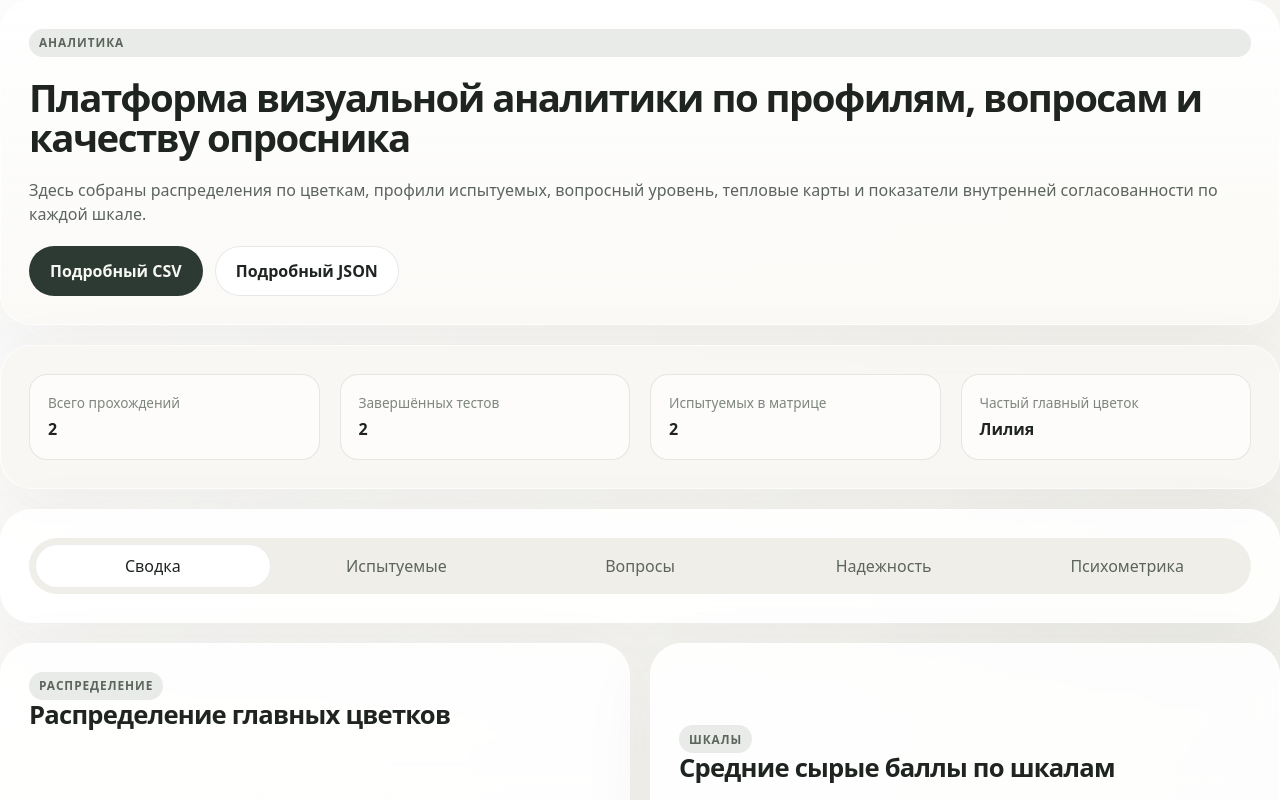
AdminAnalyticsDashboard › renders item-level tables and question charts
Click the button "Вопросы" at (640, 566), box [522,544,758,588]
(page scrolled)
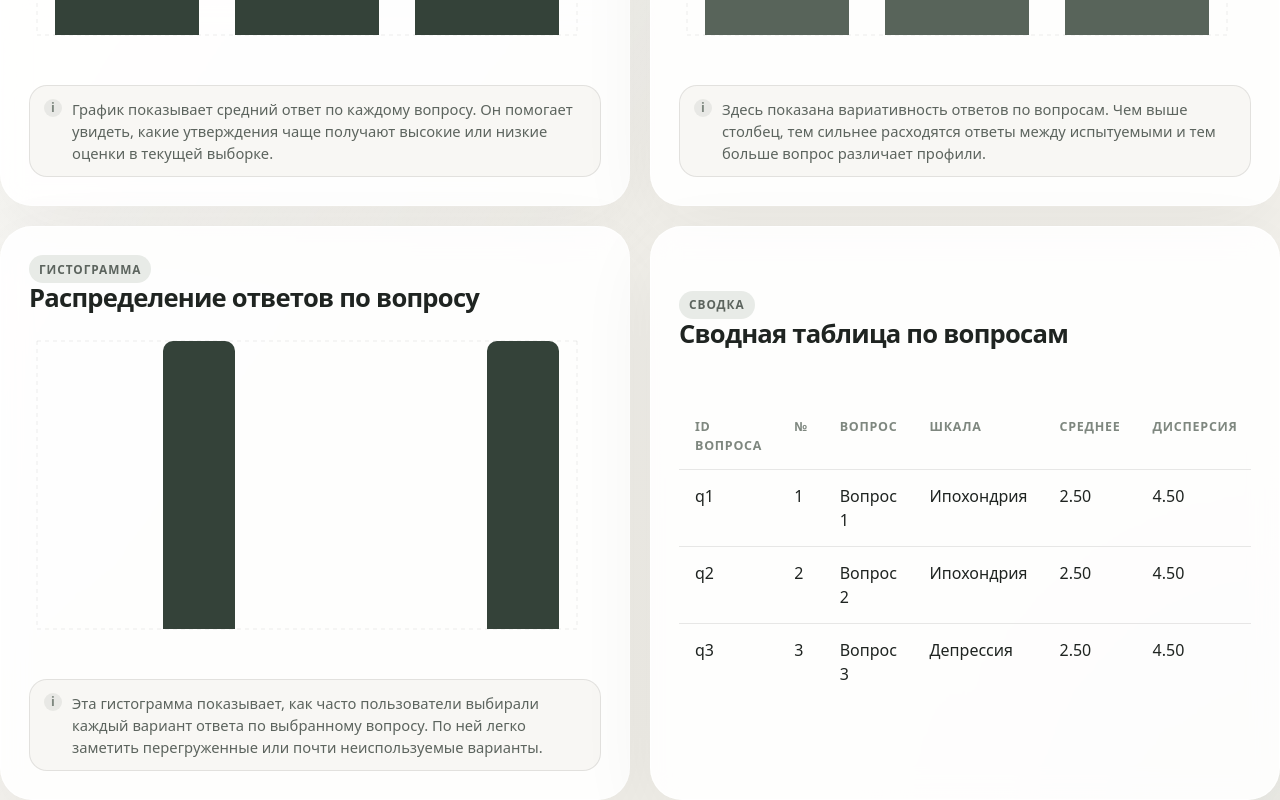
Result: the heading "Распределение ответов по вопросу" is shown at [29,284,479,313]
Result: the heading "Сводная таблица по вопросам" is shown at [679,319,1068,348]
Result: the text "Вопрос 1" is shown at [824,470,914,547]
